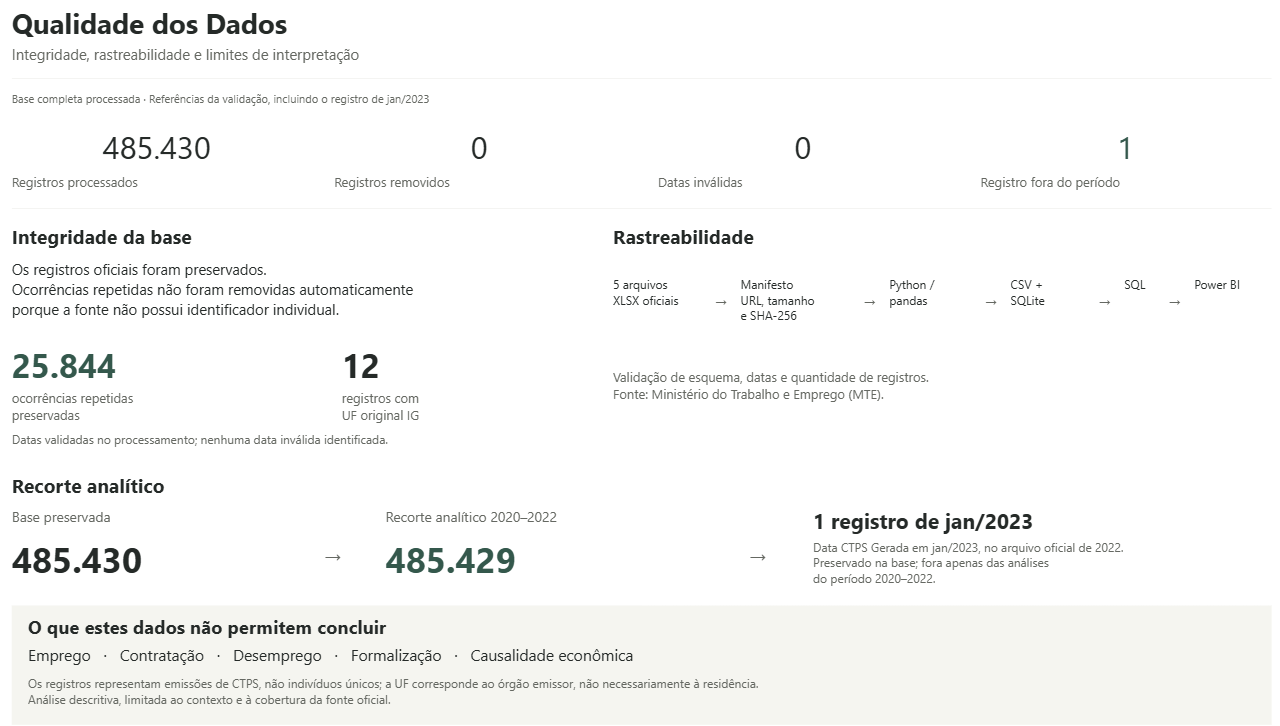

What the dashboard file says about the page in this screenshot:
{"tool":"powerbi","page":{"name":"Qualidade dos Dados","canvas":[1920,1080],"ordinal":2},"visuals":[{"type":"textbox","box":[48,30,1600,62],"z":0},{"type":"shape","box":[48,137,1824,1],"z":10},{"type":"shape","box":[48,326,1824,1],"z":10},{"type":"shape","box":[48,901,1824,173],"z":10},{"type":"textbox","box":[48,88,1700,44],"z":1000},{"type":"textbox","box":[48,155,1824,40],"z":1000},{"type":"textbox","box":[48,275,420,40],"z":1000},{"type":"textbox","box":[516,275,420,40],"z":1000},{"type":"textbox","box":[984,275,420,40],"z":1000},{"type":"textbox","box":[1452,275,420,40],"z":1000},{"type":"textbox","box":[48,348,788,48],"z":1000},{"type":"textbox","box":[920,426,142,106],"z":1000},{"type":"textbox","box":[1104,426,174,106],"z":1000},{"type":"textbox","box":[1320,426,132,106],"z":1000},{"type":"textbox","box":[1494,426,124,106],"z":1000},{"type":"textbox","box":[1660,426,58,106],"z":1000},{"type":"textbox","box":[1760,426,112,106],"z":1000},{"type":"textbox","box":[1066,445,30,46],"z":1000},{"type":"textbox","box":[1282,445,30,46],"z":1000},{"type":"textbox","box":[1456,445,30,46],"z":1000},{"type":"textbox","box":[1622,445,30,46],"z":1000},{"type":"textbox","box":[1722,445,30,46],"z":1000},{"type":"textbox","box":[48,520,430,68],"z":1000},{"type":"textbox","box":[526,520,310,68],"z":1000},{"type":"textbox","box":[920,558,952,82],"z":1000},{"type":"textbox","box":[48,588,430,60],"z":1000},{"type":"textbox","box":[526,588,310,60],"z":1000},{"type":"textbox","box":[48,650,788,44],"z":1000},{"type":"textbox","box":[48,708,1824,48],"z":1000},{"type":"textbox","box":[48,758,430,40],"z":1000},{"type":"textbox","box":[590,758,500,40],"z":1000},{"type":"textbox","box":[1208,758,664,46],"z":1000},{"type":"textbox","box":[48,800,430,76],"z":1000},{"type":"textbox","box":[590,800,500,76],"z":1000},{"type":"textbox","box":[1208,806,664,82],"z":1000},{"type":"textbox","box":[500,807,54,60],"z":1000},{"type":"textbox","box":[1114,807,54,60],"z":1000},{"type":"textbox","box":[72,958,1776,40],"z":1000},{"type":"textbox","box":[72,1002,1776,66],"z":1000},{"type":"card","fields":{"Values":["ctps_emissoes.Registros publicados"]},"box":[48,196,420,80],"z":2000},{"type":"card","fields":{"Values":["Calendario.Registros removidos"]},"box":[516,196,420,80],"z":3000},{"type":"card","fields":{"Values":["Calendario.Datas inválidas"]},"box":[984,196,420,80],"z":4000},{"type":"card","fields":{"Values":["Calendario.Registros fora do período"]},"box":[1452,196,420,80],"z":5000},{"type":"textbox","box":[48,400,788,108],"z":6000},{"type":"textbox","box":[920,348,952,48],"z":7000},{"type":"textbox","box":[72,913,1776,44],"z":8000}]}

Visuals, with their boxes in screenshot pixels (x1, y1, x2, y2), scaled from the page's 1920x1080 canvas onto the 1280x726 screenshot:
textbox: Rect(32, 20, 1099, 62)
shape: Rect(32, 92, 1248, 93)
shape: Rect(32, 219, 1248, 220)
shape: Rect(32, 606, 1248, 722)
textbox: Rect(32, 59, 1165, 89)
textbox: Rect(32, 104, 1248, 131)
textbox: Rect(32, 185, 312, 212)
textbox: Rect(344, 185, 624, 212)
textbox: Rect(656, 185, 936, 212)
textbox: Rect(968, 185, 1248, 212)
textbox: Rect(32, 234, 557, 266)
textbox: Rect(613, 286, 708, 358)
textbox: Rect(736, 286, 852, 358)
textbox: Rect(880, 286, 968, 358)
textbox: Rect(996, 286, 1079, 358)
textbox: Rect(1107, 286, 1145, 358)
textbox: Rect(1173, 286, 1248, 358)
textbox: Rect(711, 299, 731, 330)
textbox: Rect(855, 299, 875, 330)
textbox: Rect(971, 299, 991, 330)
textbox: Rect(1081, 299, 1101, 330)
textbox: Rect(1148, 299, 1168, 330)
textbox: Rect(32, 350, 319, 395)
textbox: Rect(351, 350, 557, 395)
textbox: Rect(613, 375, 1248, 430)
textbox: Rect(32, 395, 319, 436)
textbox: Rect(351, 395, 557, 436)
textbox: Rect(32, 437, 557, 467)
textbox: Rect(32, 476, 1248, 508)
textbox: Rect(32, 510, 319, 536)
textbox: Rect(393, 510, 727, 536)
textbox: Rect(805, 510, 1248, 540)
textbox: Rect(32, 538, 319, 589)
textbox: Rect(393, 538, 727, 589)
textbox: Rect(805, 542, 1248, 597)
textbox: Rect(333, 542, 369, 583)
textbox: Rect(743, 542, 779, 583)
textbox: Rect(48, 644, 1232, 671)
textbox: Rect(48, 674, 1232, 718)
card - ctps_emissoes.Registros publicados: Rect(32, 132, 312, 186)
card - Calendario.Registros removidos: Rect(344, 132, 624, 186)
card - Calendario.Datas inválidas: Rect(656, 132, 936, 186)
card - Calendario.Registros fora do período: Rect(968, 132, 1248, 186)
textbox: Rect(32, 269, 557, 341)
textbox: Rect(613, 234, 1248, 266)
textbox: Rect(48, 614, 1232, 643)
